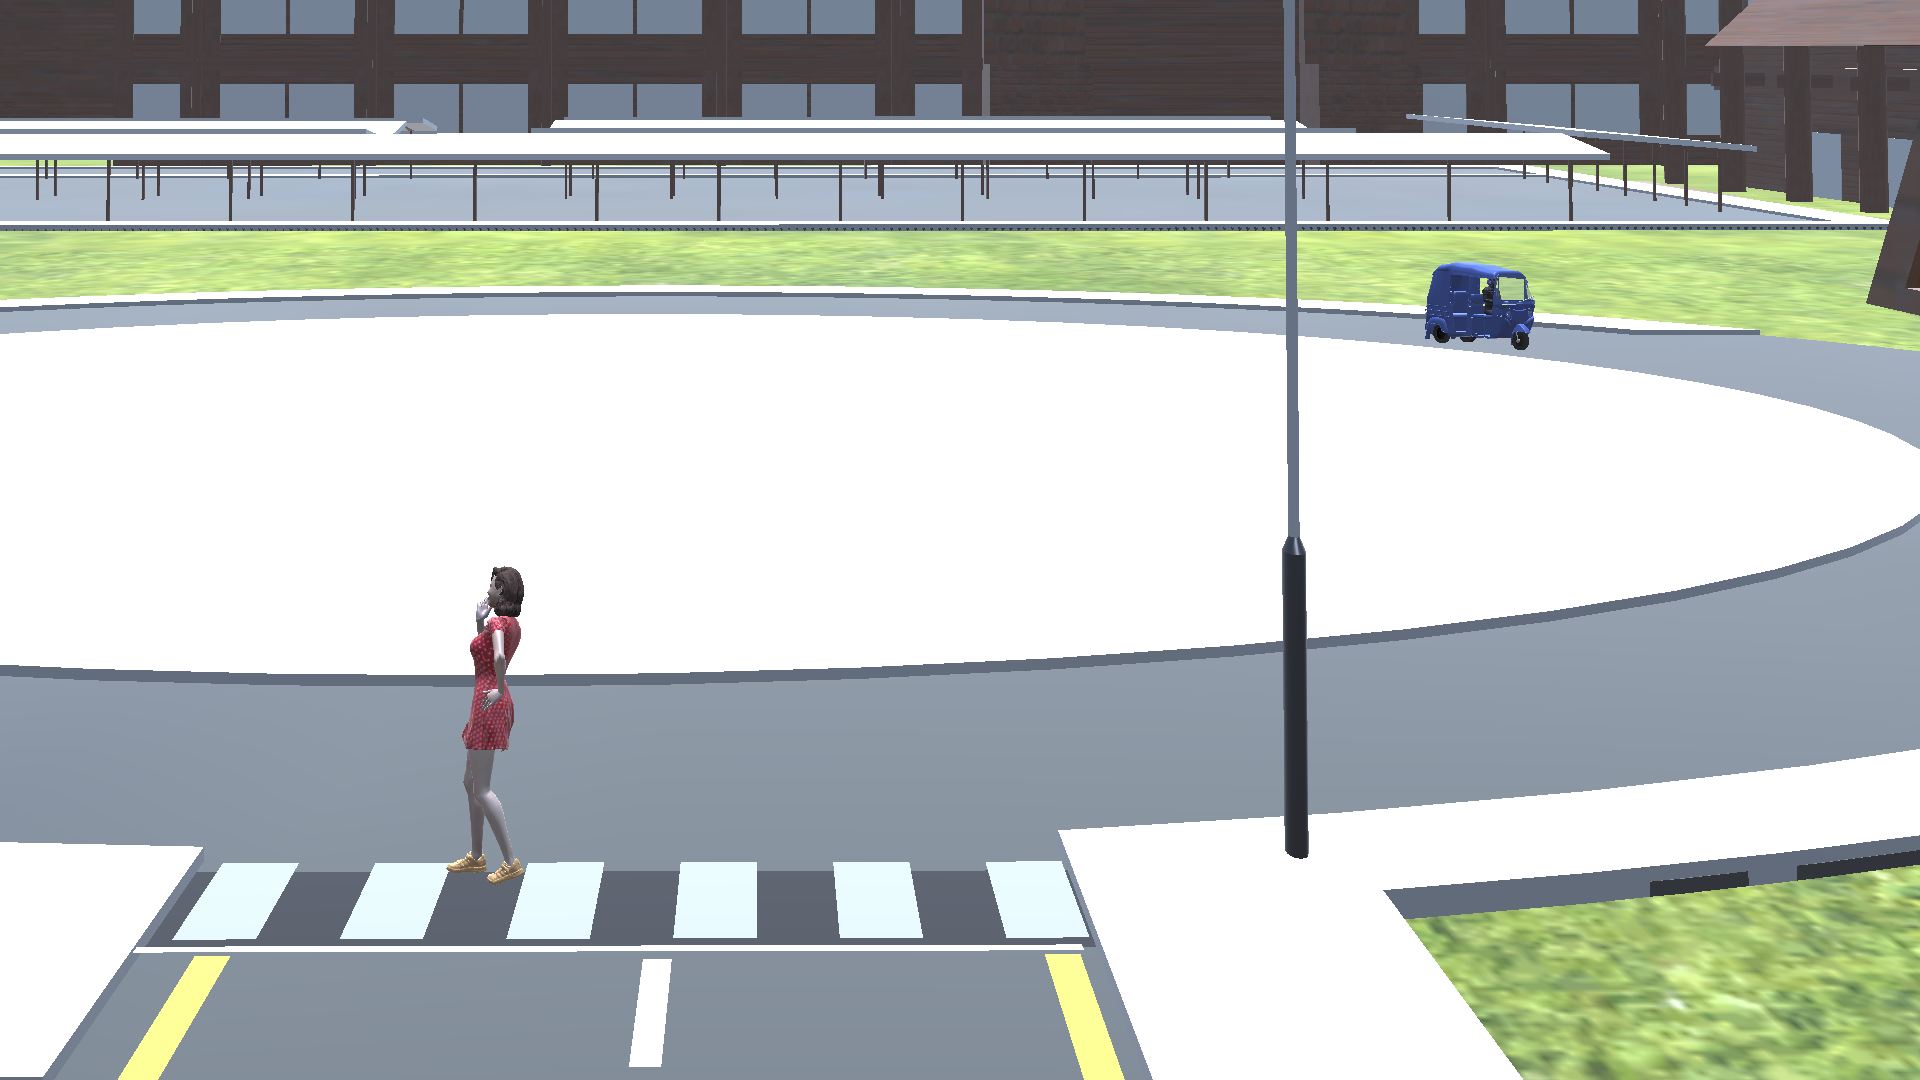pedestrian: (441, 560, 536, 891)
